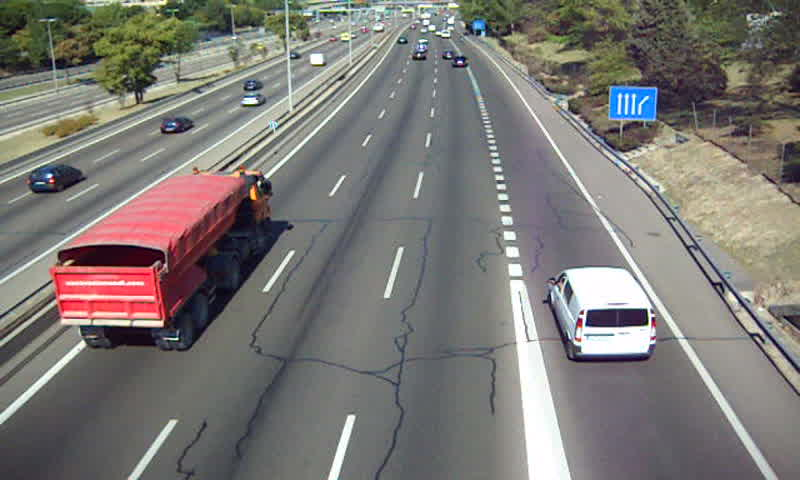car: (451, 56, 469, 69)
truck: (51, 170, 271, 348)
van: (548, 267, 655, 362)
